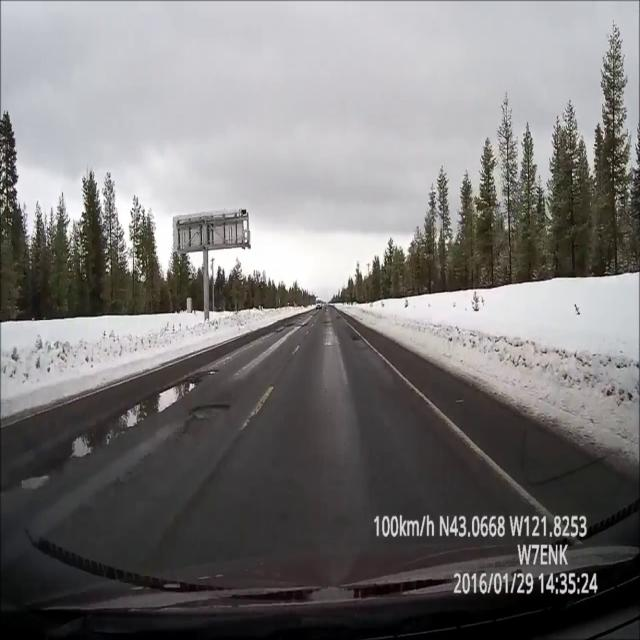Pothole: (144, 379, 198, 415), (188, 397, 234, 424), (201, 368, 218, 378), (350, 335, 361, 343), (284, 322, 294, 328), (300, 323, 308, 328), (323, 319, 330, 324), (335, 316, 342, 319)
